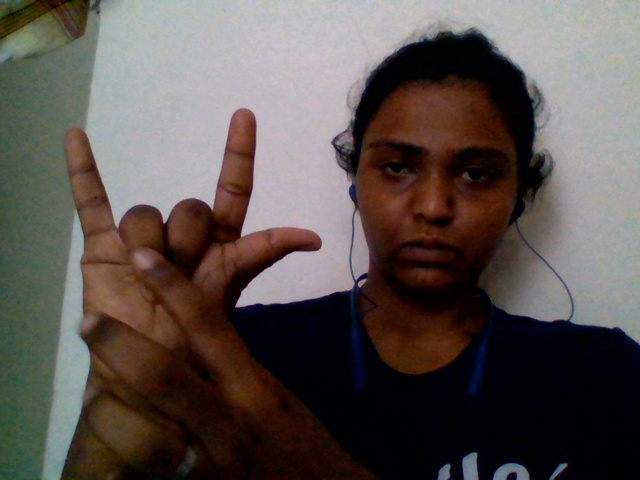IloveYou: (34, 71, 321, 348)
